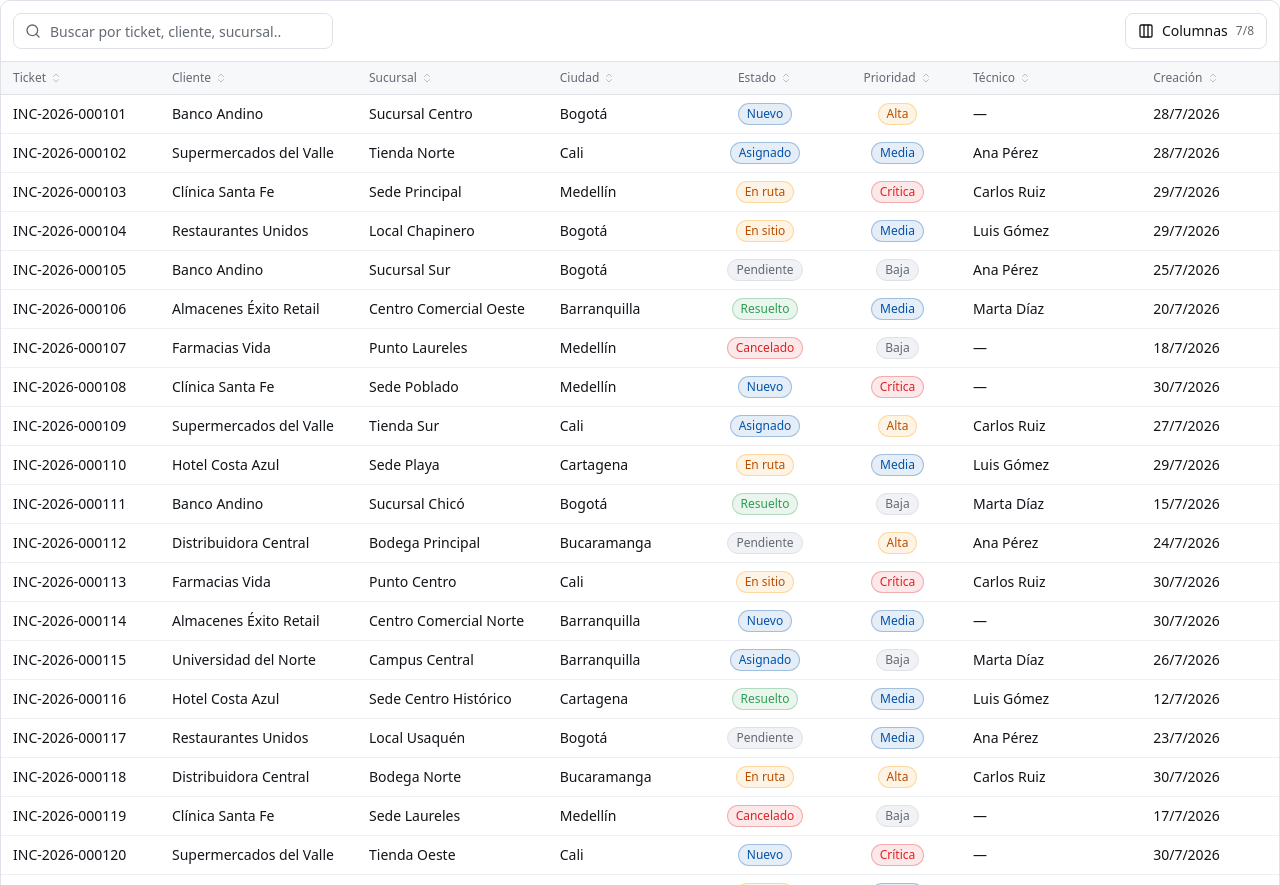
Test: Tabla de Tickets › avisa cuando la búsqueda no encuentra nada
Type "cliente-inexistente" into the search field.
click(173, 31); type("cliente-inexistente")  # box top-left (13, 13), bottom-right (333, 49)
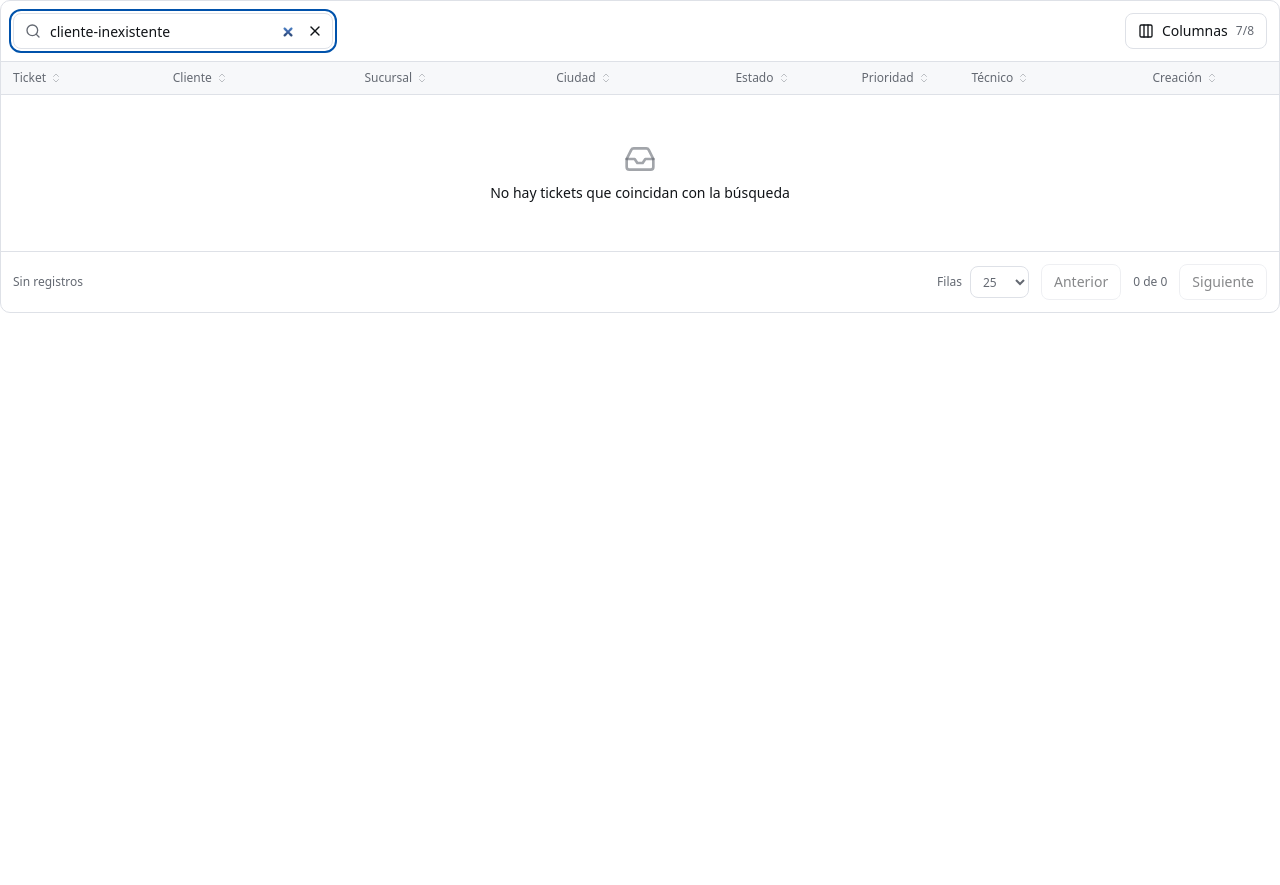
Check: the text "No hay tickets que coincidan con la búsqueda" is shown, box top-left (490, 183), bottom-right (790, 203)
